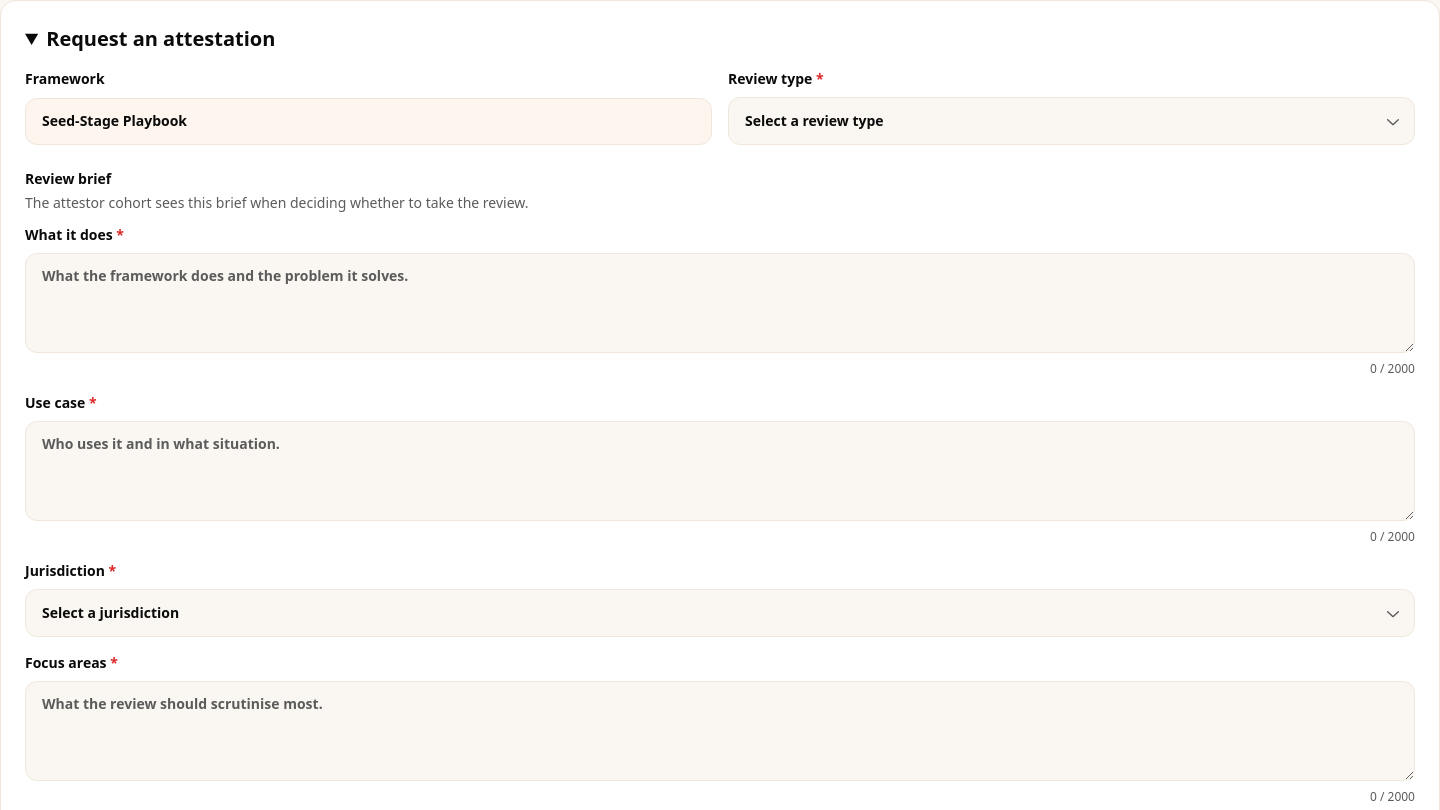
Test case: AttestationRequestForm brief limits › caps Focus areas at 2,000 characters with a live counter
This screenshot has width=1440, height=810.
Type "Hello" into the text box labelled "Focus areas *".
click(720, 731); type("Hello")  # box [25,681,1415,781]
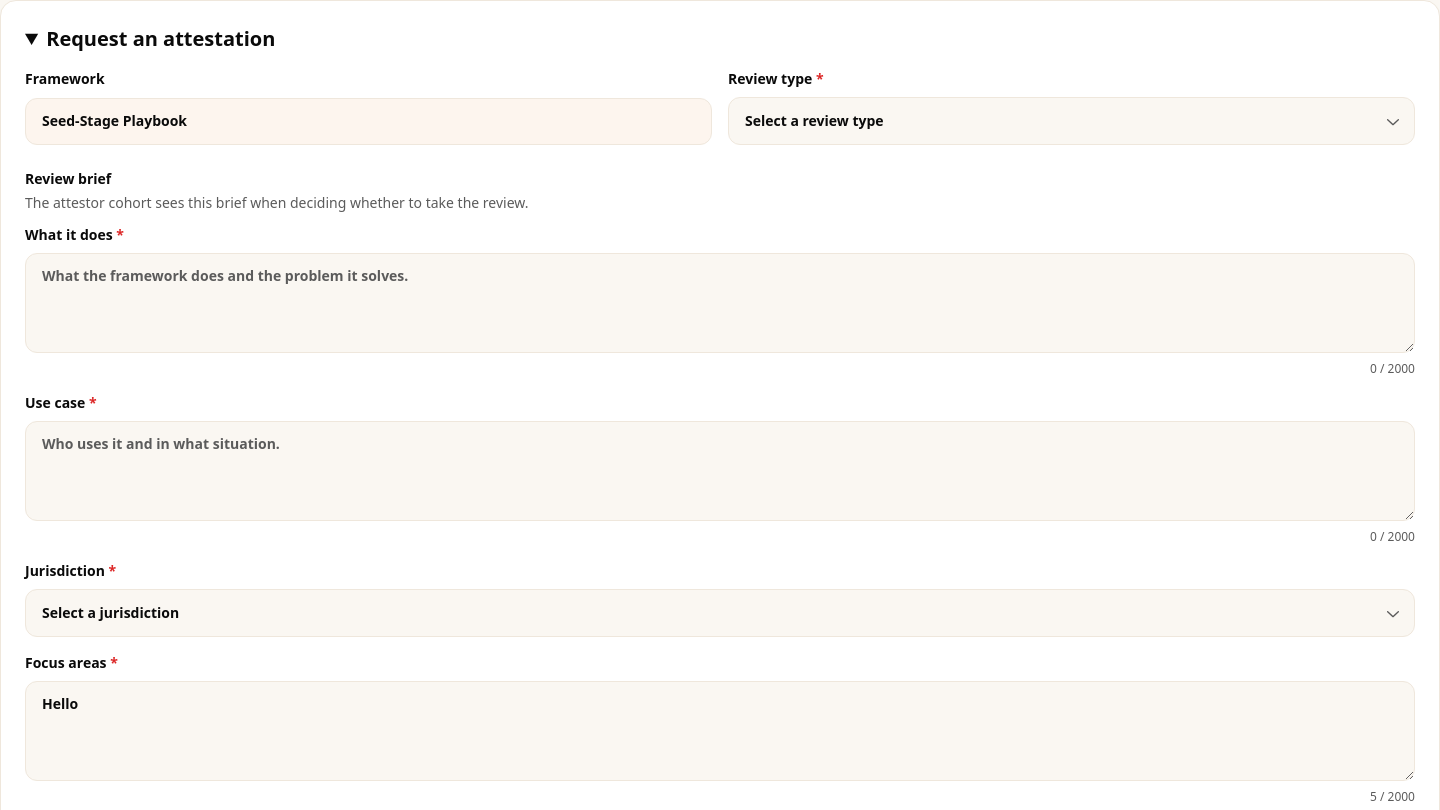
Check: the text "5 / 2000" is shown, box [1370,788,1415,805]
